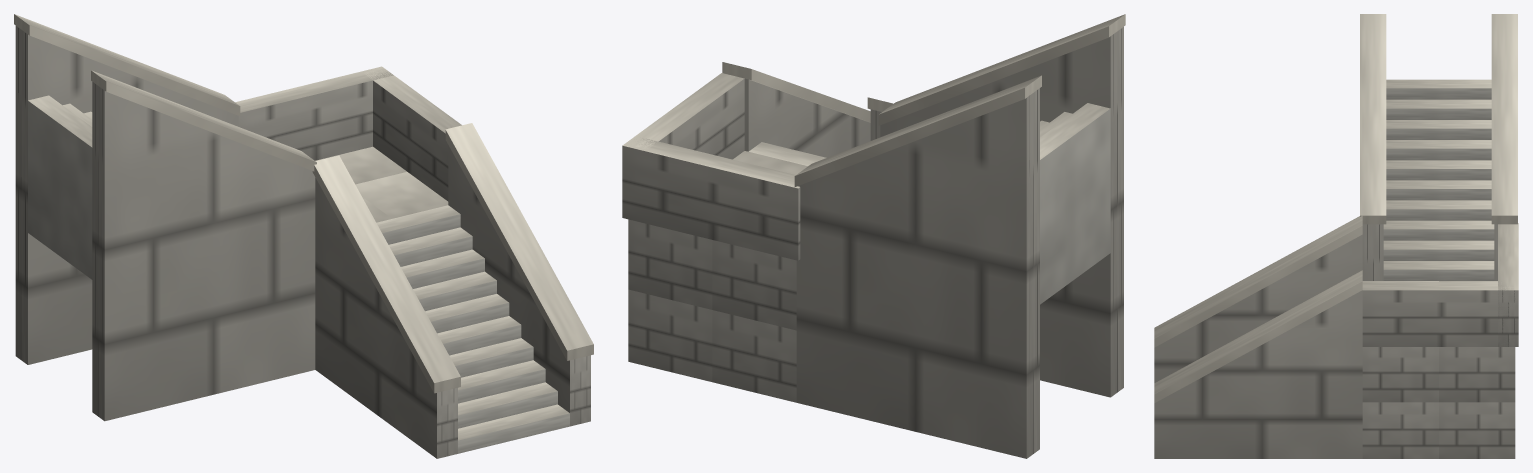
Rendered from stairs_stone_turn_01.glb.
The picture shows the model from 3 angles, left to right: view 1: azimuth 30°, elevation 25°; view 2: azimuth 150°, elevation 25°; view 3: azimuth 270°, elevation 25°; orthographic projection. The views are drawn at different scales.
Visible parts, largest first — view 1: stairs_stone_turn_01; view 2: stairs_stone_turn_01; view 3: stairs_stone_turn_01.
Part boxes in pixels (<box>): stairs_stone_turn_01: <box>14,14,593,458</box>; stairs_stone_turn_01: <box>622,14,1125,458</box>; stairs_stone_turn_01: <box>1154,14,1518,458</box>.
Bounding box in the file's own units: 5.24 × 4.64 × 5.24.
Materials: 1 (1 with a texture image).
